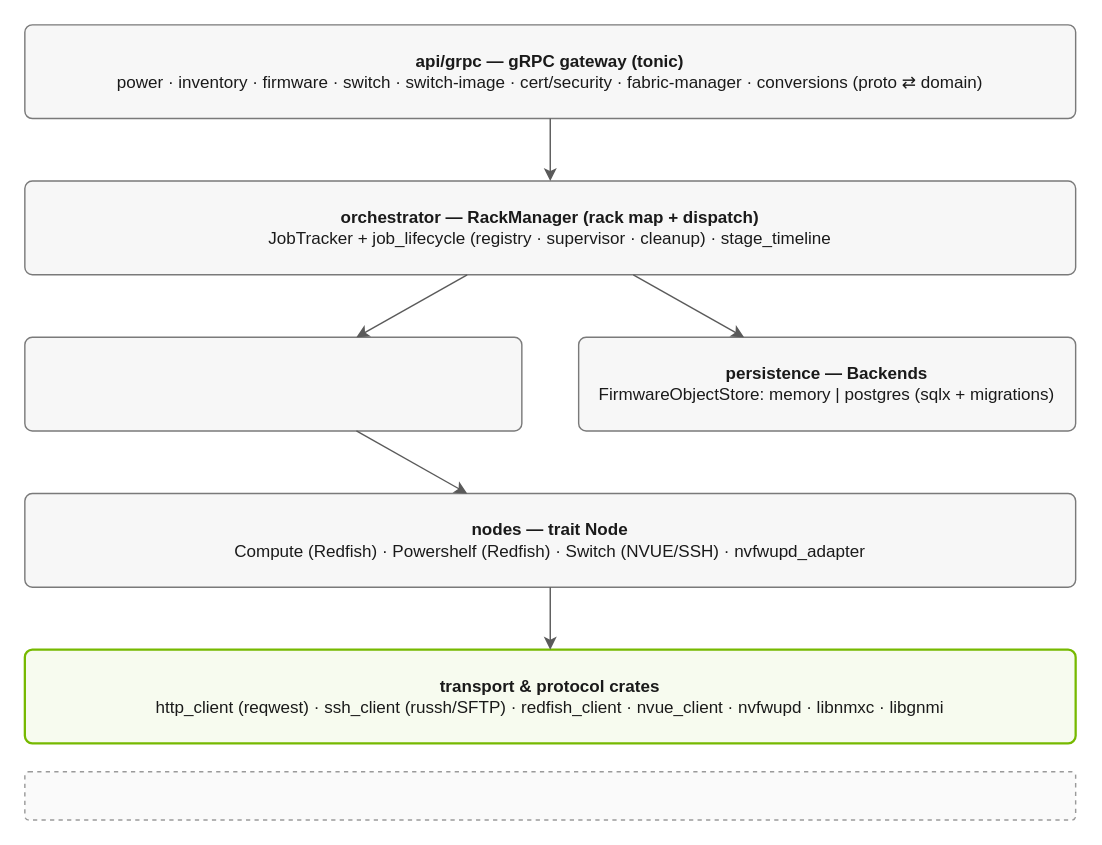
The diagram is 1102 pixels wide and 845 high, and some of its shapes have lost their labels. Each missing label, with the centre of its shape:
"cross-cutting: config (TOML) · logging (logfmt) · metrics (Prometheus)" goes at [549,795].
"racks — trait Rack NvlGb200Rack · NvlGb300Rack · NvlVrnvl72Rack" goes at [272,383].
